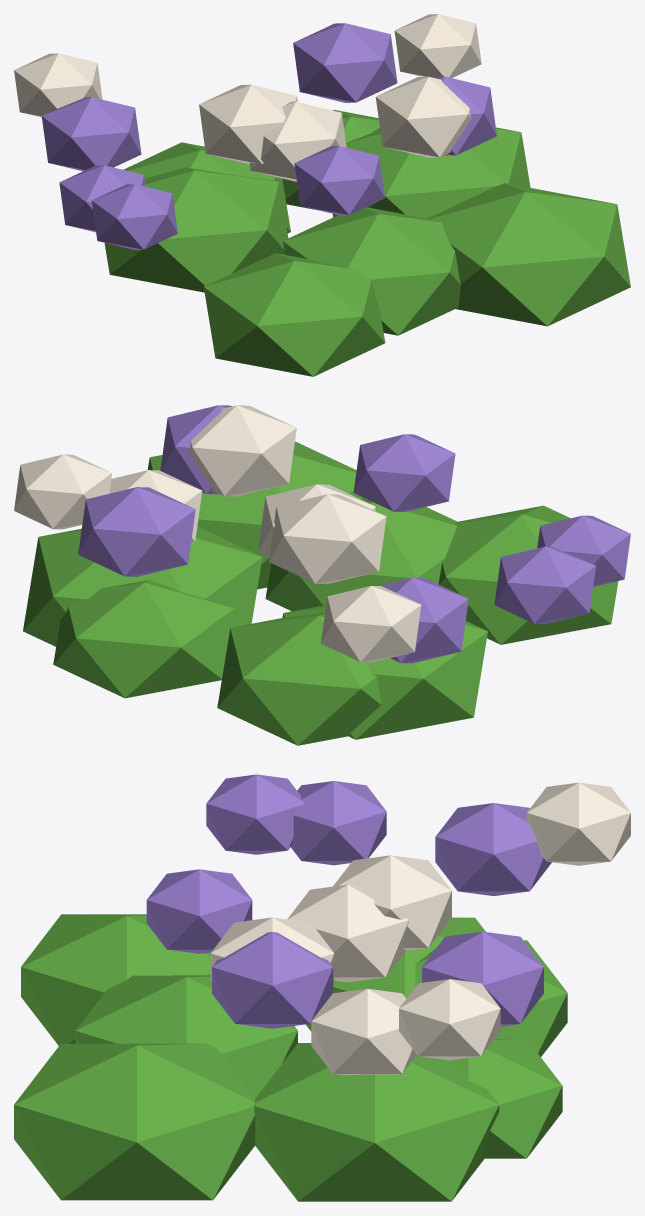
Rendered from wildflowers_2.glb.
3 renders of one model, top to bottom at view 1: azimuth 30°, elevation 25°; view 2: azimuth 150°, elevation 25°; view 3: azimuth 270°, elevation 25°, orthographic. The views are drawn at different scales.
Visible parts, largest first — view 1: leaves1, flower_violet, flower_white; view 2: leaves1, flower_violet, flower_white; view 3: leaves1, flower_violet, flower_white.
Part boxes in pixels (box(x1,y1,x2,y2)): leaves1: box(104, 110, 630, 376); flower_violet: box(41, 23, 496, 249); flower_white: box(14, 14, 481, 181); leaves1: box(23, 441, 618, 745); flower_violet: box(78, 405, 630, 663); flower_white: box(14, 405, 421, 662); leaves1: box(14, 914, 567, 1201); flower_violet: box(146, 774, 551, 1028); flower_white: box(210, 782, 630, 1075).
Bounding box in the file's own units: 0.8201 × 0.349 × 0.7589.
